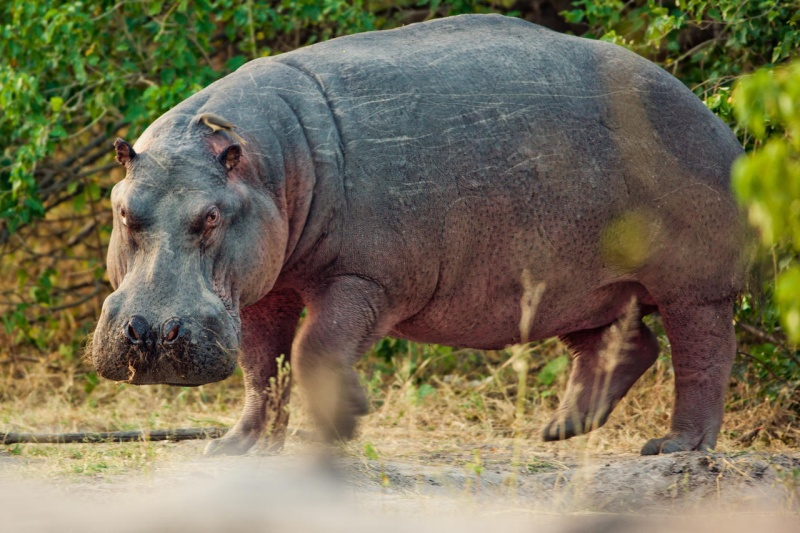hipopotamo: (86, 5, 755, 471)
